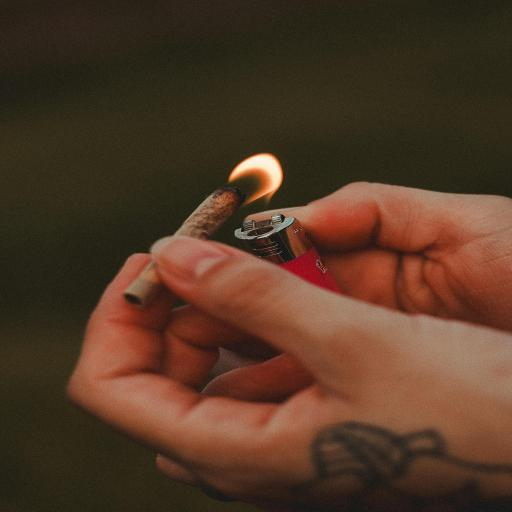lighter: (196, 140, 383, 348)
